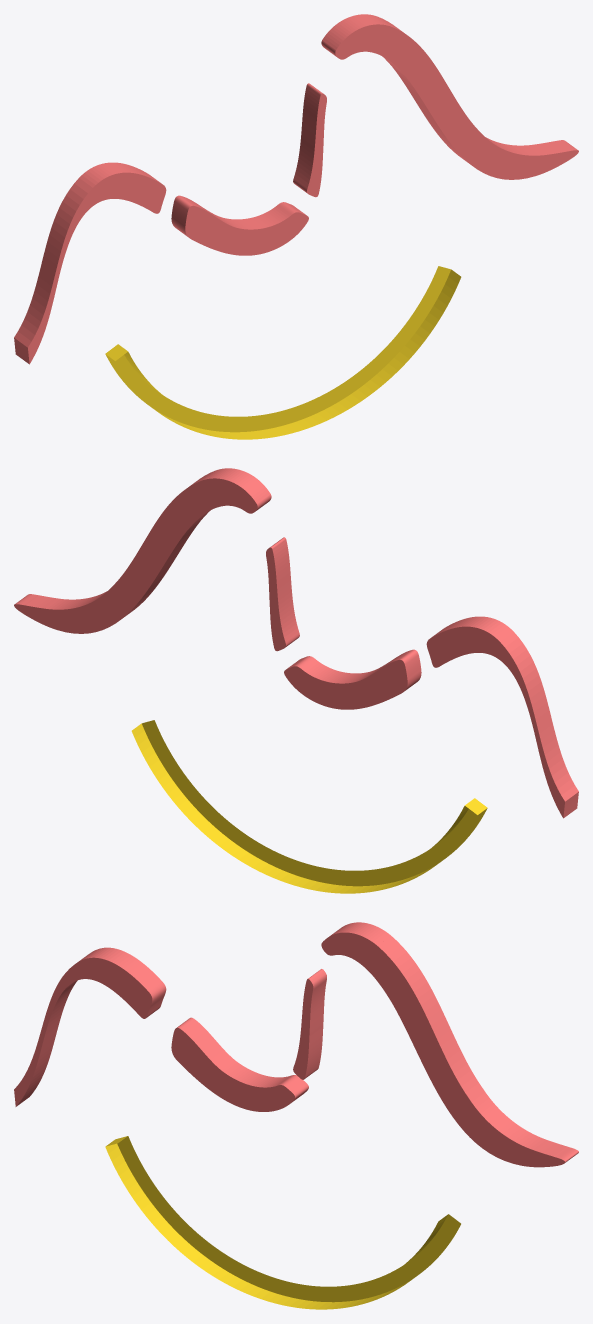
The model's file is add_sweep_yellow.glb.
3 views of the same model, one above another, from view 1: azimuth 30°, elevation 25°; view 2: azimuth 150°, elevation 25°; view 3: azimuth 330°, elevation 25° (orthographic).
Visible parts, largest first — view 1: shape_03, virtual_sweep_yellow, shape_00, shape_01, shape_02; view 2: shape_03, virtual_sweep_yellow, shape_00, shape_01, shape_02; view 3: shape_03, virtual_sweep_yellow, shape_00, shape_01, shape_02.
Part boxes in pixels (x1,y1,x2,y2): shape_03: [321, 14, 578, 179]; virtual_sweep_yellow: [105, 266, 461, 439]; shape_00: [14, 162, 166, 364]; shape_01: [171, 195, 308, 255]; shape_02: [293, 83, 326, 197]; shape_03: [14, 468, 271, 633]; virtual_sweep_yellow: [131, 720, 487, 893]; shape_00: [426, 616, 578, 818]; shape_01: [284, 649, 421, 709]; shape_02: [266, 537, 299, 651]; shape_03: [321, 922, 578, 1167]; virtual_sweep_yellow: [105, 1136, 460, 1309]; shape_00: [14, 947, 166, 1106]; shape_01: [171, 1017, 308, 1111]; shape_02: [293, 969, 326, 1079].
Size of the model in its own units: 6.9 by 4.67 by 0.3.
